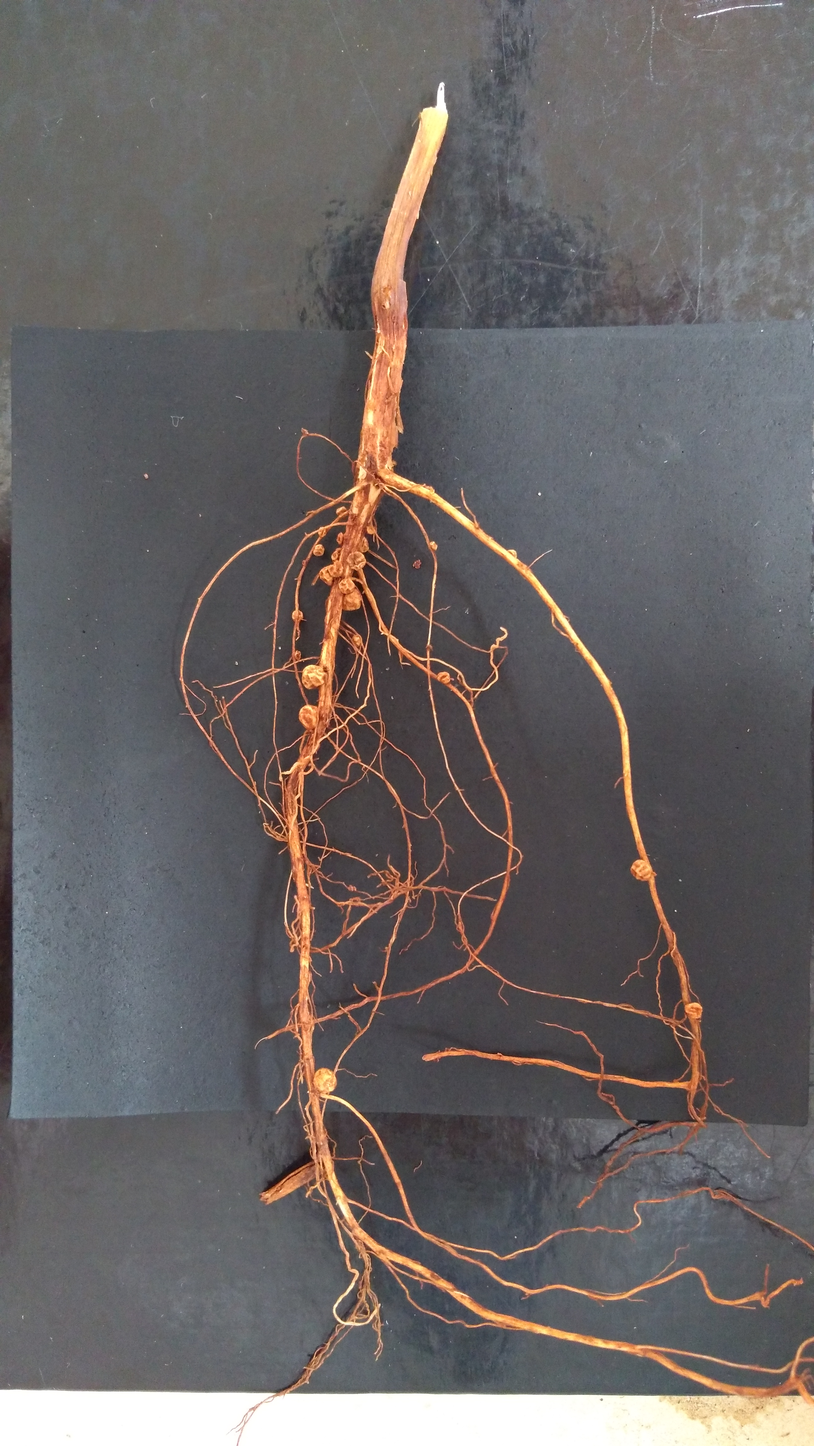nodule: (312, 1067, 337, 1094), (302, 664, 327, 690), (298, 704, 319, 731), (630, 859, 651, 881), (342, 587, 361, 611), (346, 550, 366, 571), (684, 1002, 703, 1019), (319, 565, 334, 586), (339, 578, 355, 595), (328, 560, 343, 578), (436, 671, 451, 685), (331, 548, 342, 563), (359, 537, 369, 553), (312, 544, 325, 556), (291, 609, 303, 622), (336, 506, 348, 517), (351, 634, 361, 647), (366, 524, 376, 535), (411, 559, 422, 569), (317, 527, 327, 537), (429, 541, 438, 551), (507, 549, 517, 558), (336, 532, 343, 544), (294, 649, 301, 661), (300, 427, 309, 436), (348, 884, 357, 892), (302, 560, 306, 565)
